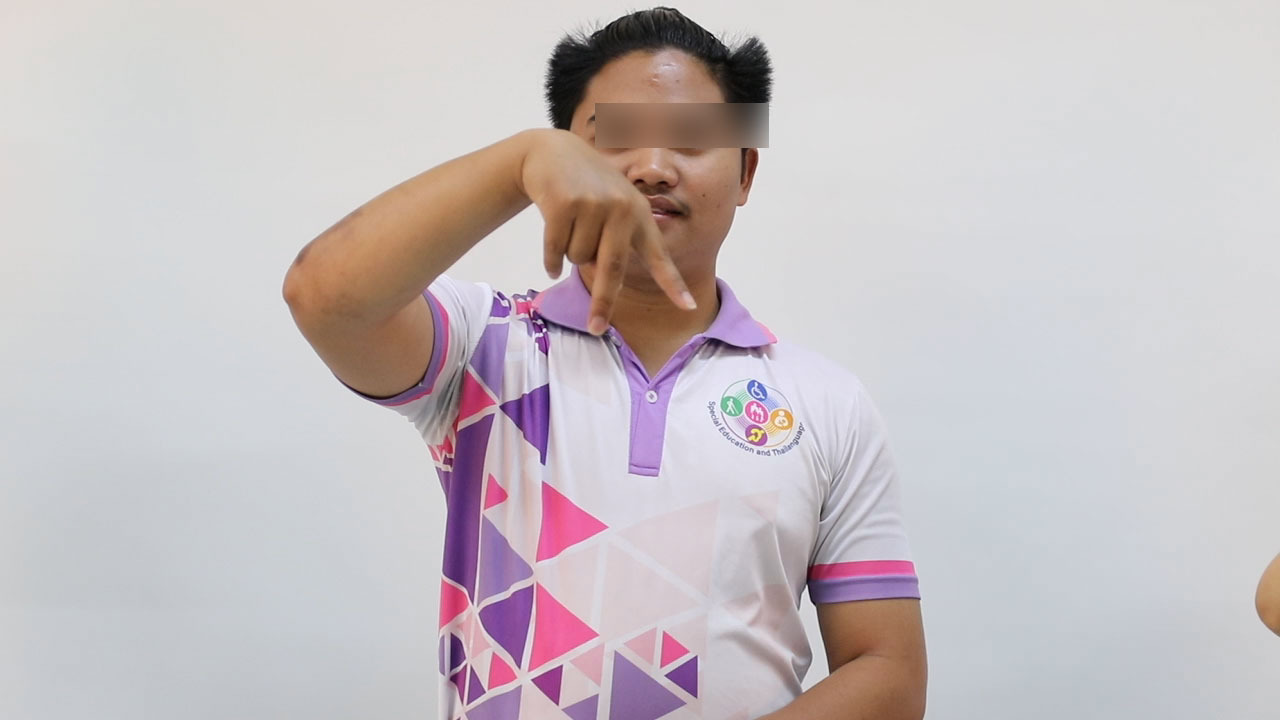por: (503, 118, 712, 344)
